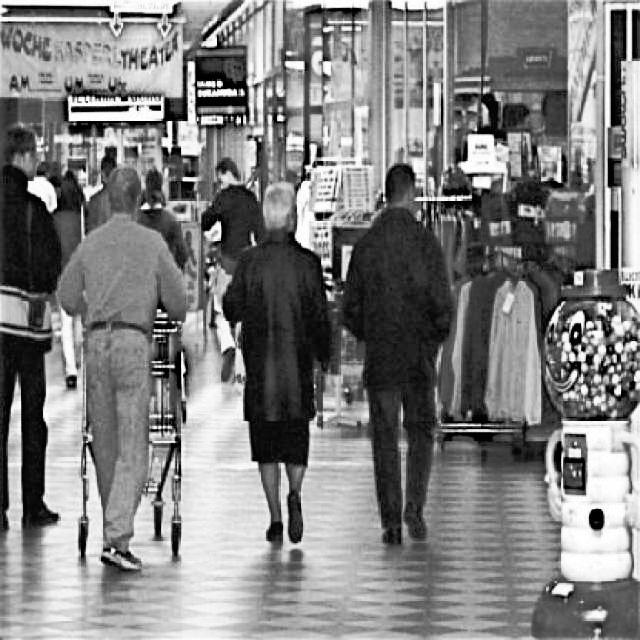Person: (56, 162, 198, 570), (340, 157, 456, 554), (220, 176, 337, 553), (0, 118, 65, 531)
